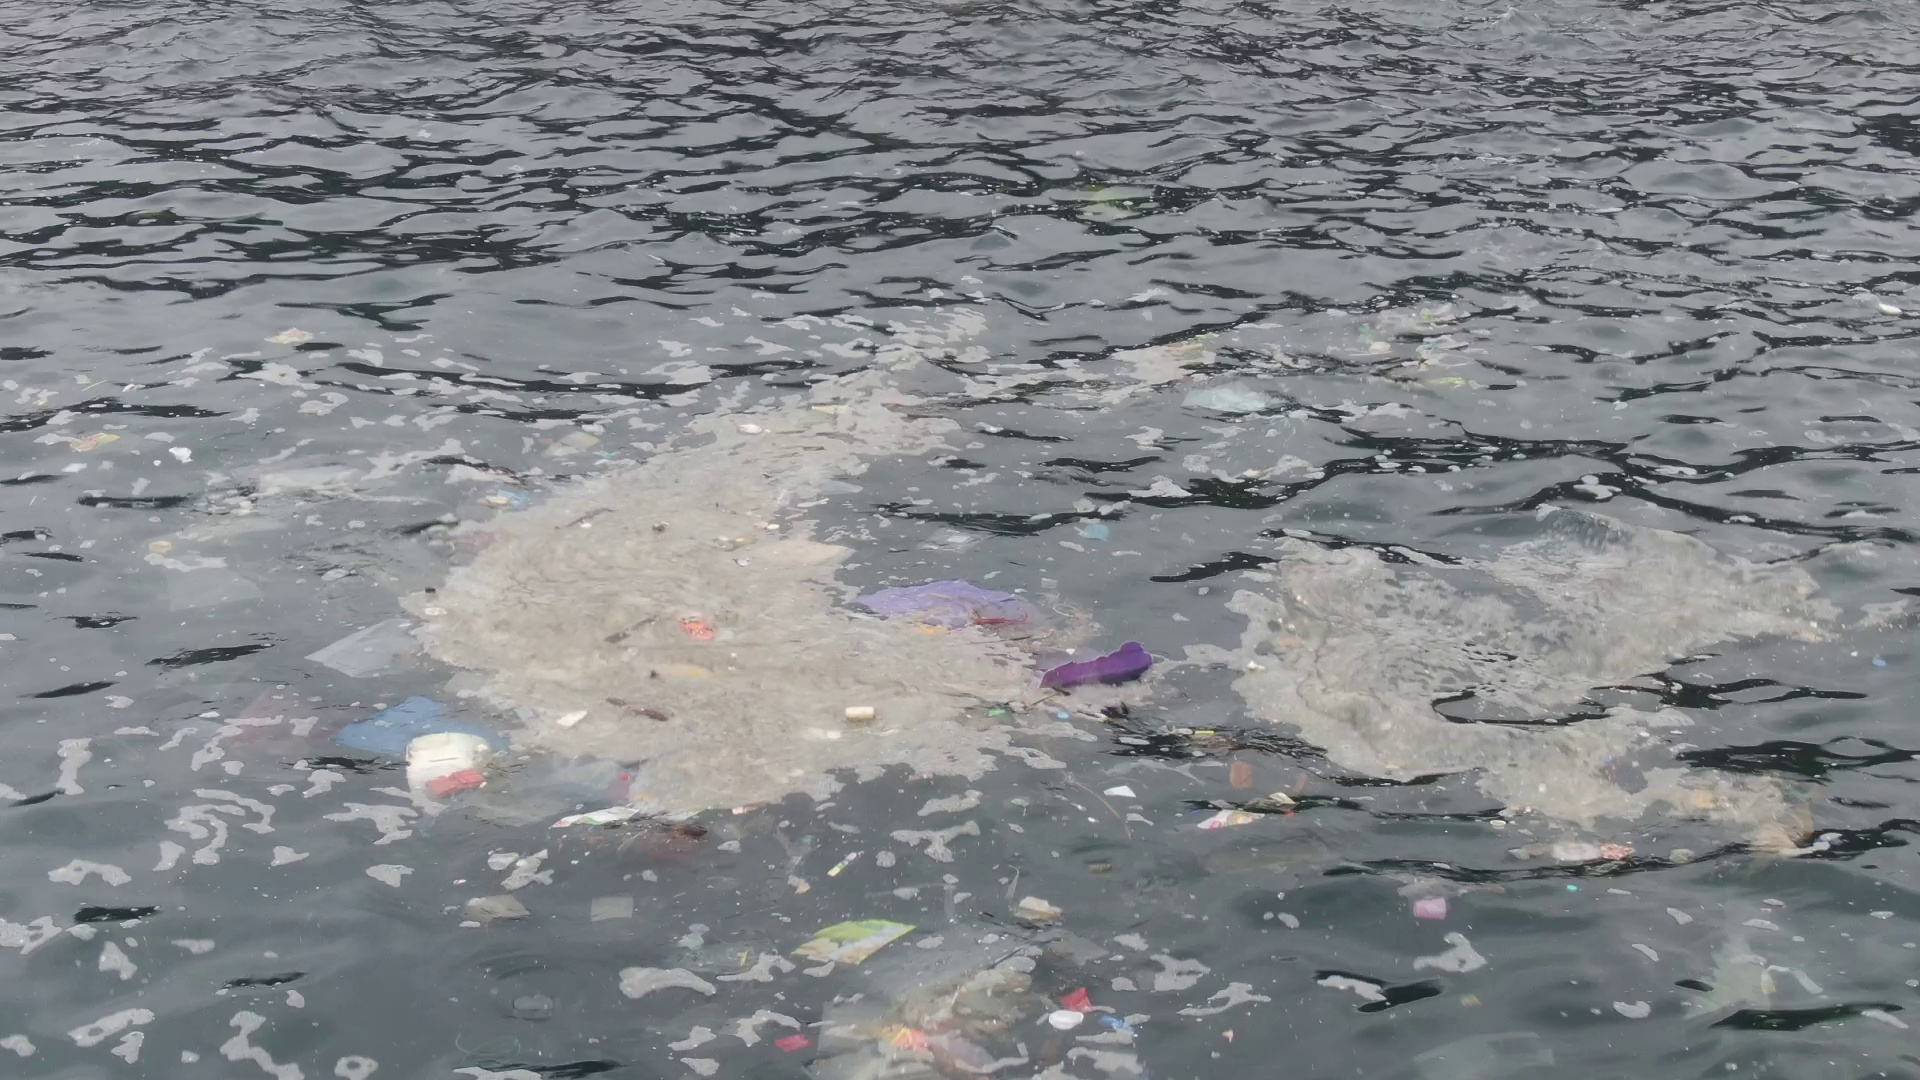garbage: (316, 574, 1321, 851), (777, 996, 1145, 1072), (1664, 774, 1822, 858), (1407, 1029, 1559, 1079), (795, 913, 913, 960), (239, 680, 313, 756), (1532, 840, 1634, 869), (61, 426, 125, 452), (1411, 894, 1455, 927), (1079, 520, 1112, 543)
